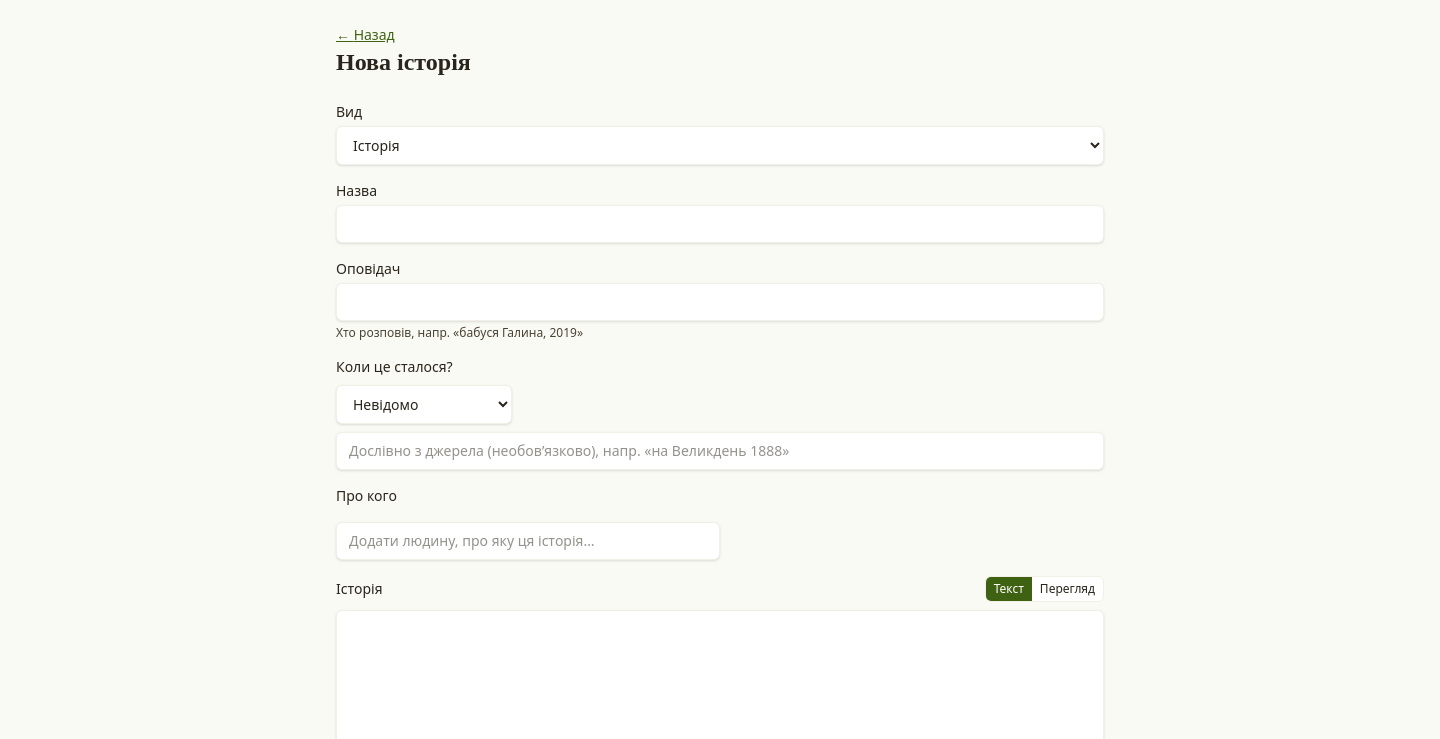
stories › contributor writes a story and submits it for review
In the field labelled "Назва": (720, 224) [336,205,1104,243], type "Пироги"
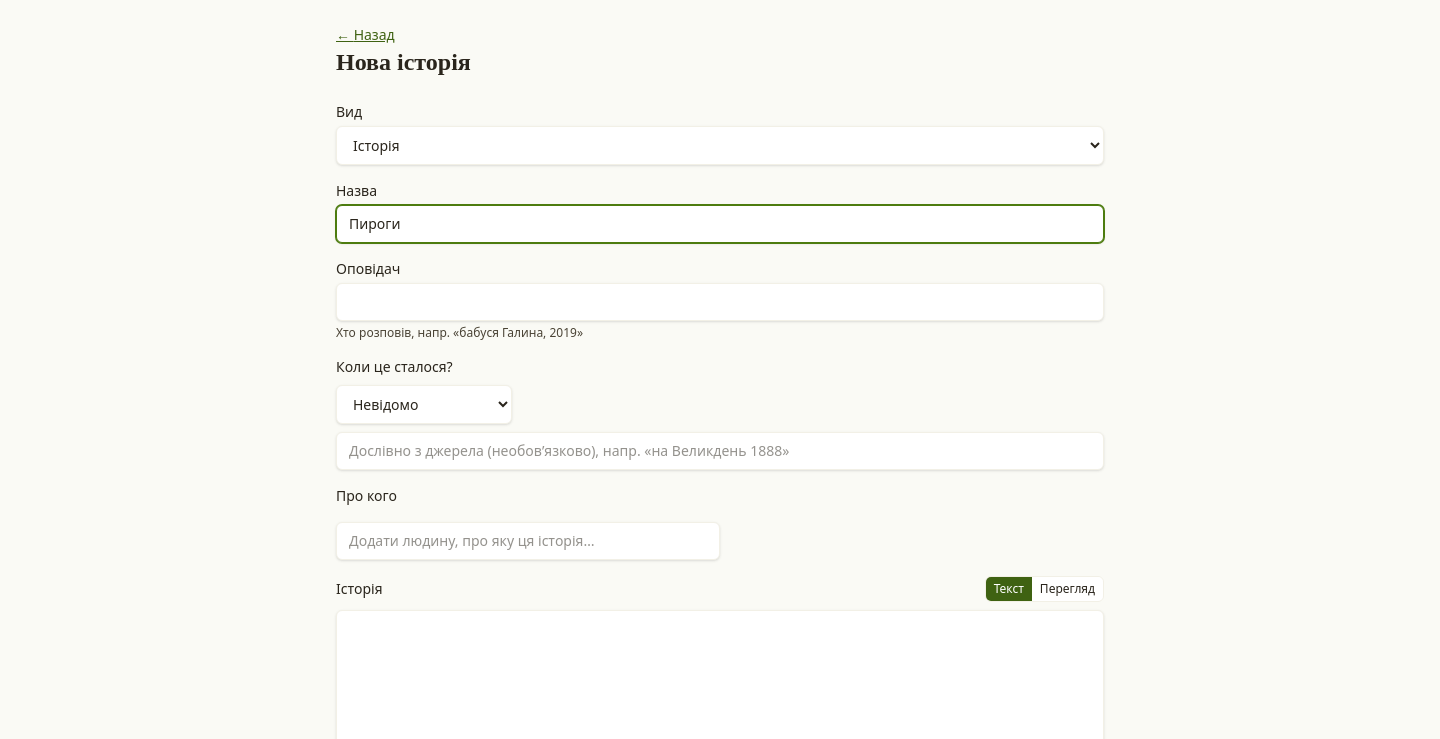
In the field labelled "Оповідач": (720, 302) [336,283,1104,321], type "бабуся Галина"
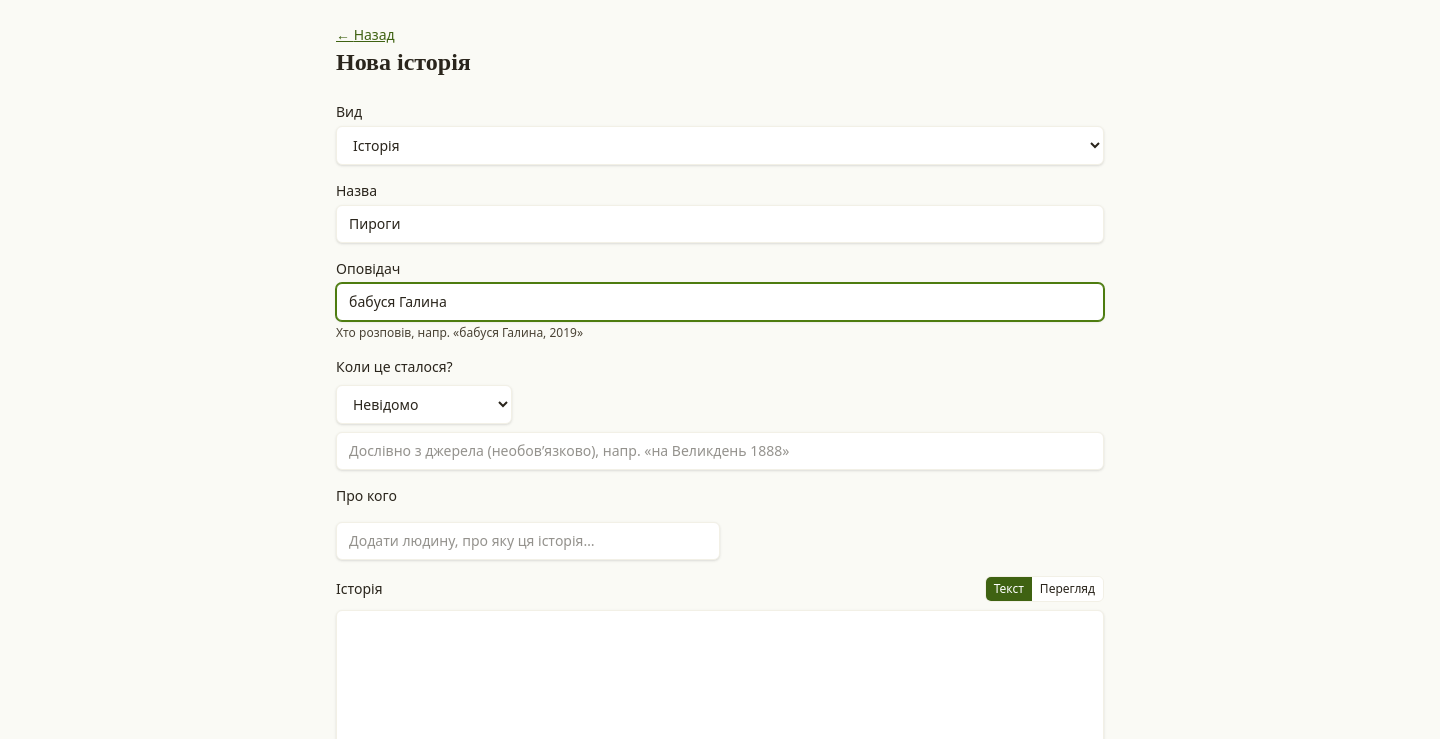
In the dropdown labelled "Додати людину, про яку ця історія…": (528, 541) [336,522,720,560], type "Гал"
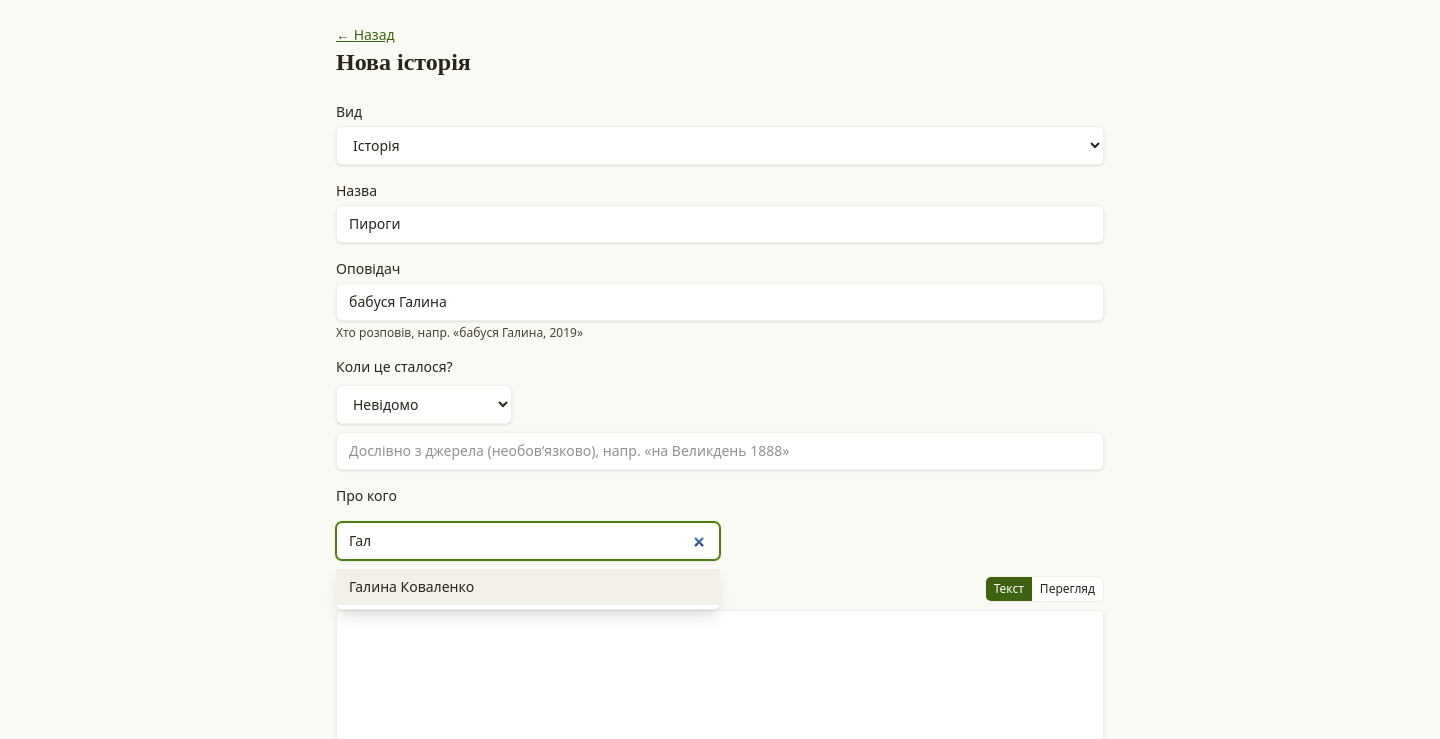
Click the option "Галина Коваленко": (412, 586) [337,569,719,605]
(page scrolled)
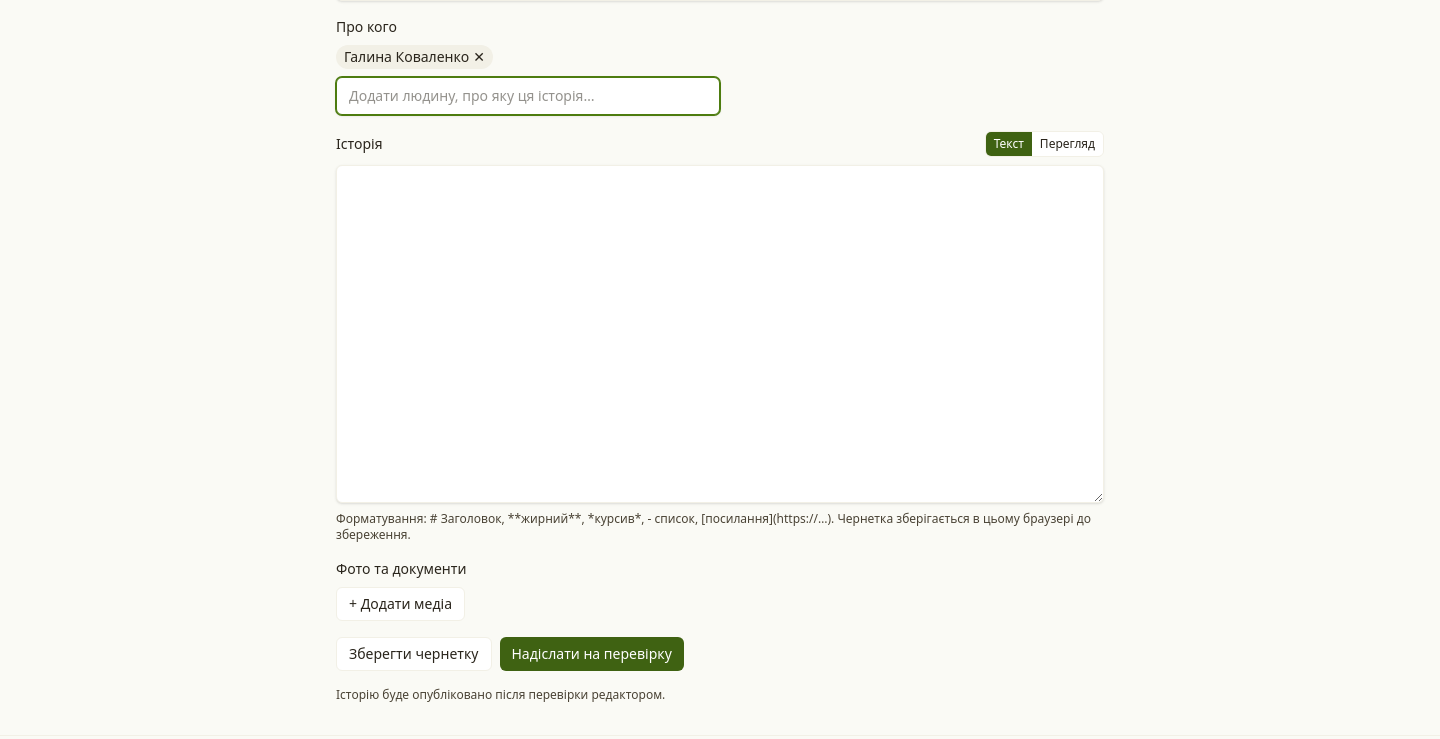
In the text box named "Історія": (720, 334) [336,165,1104,503], type "Тісто місили з вечора."
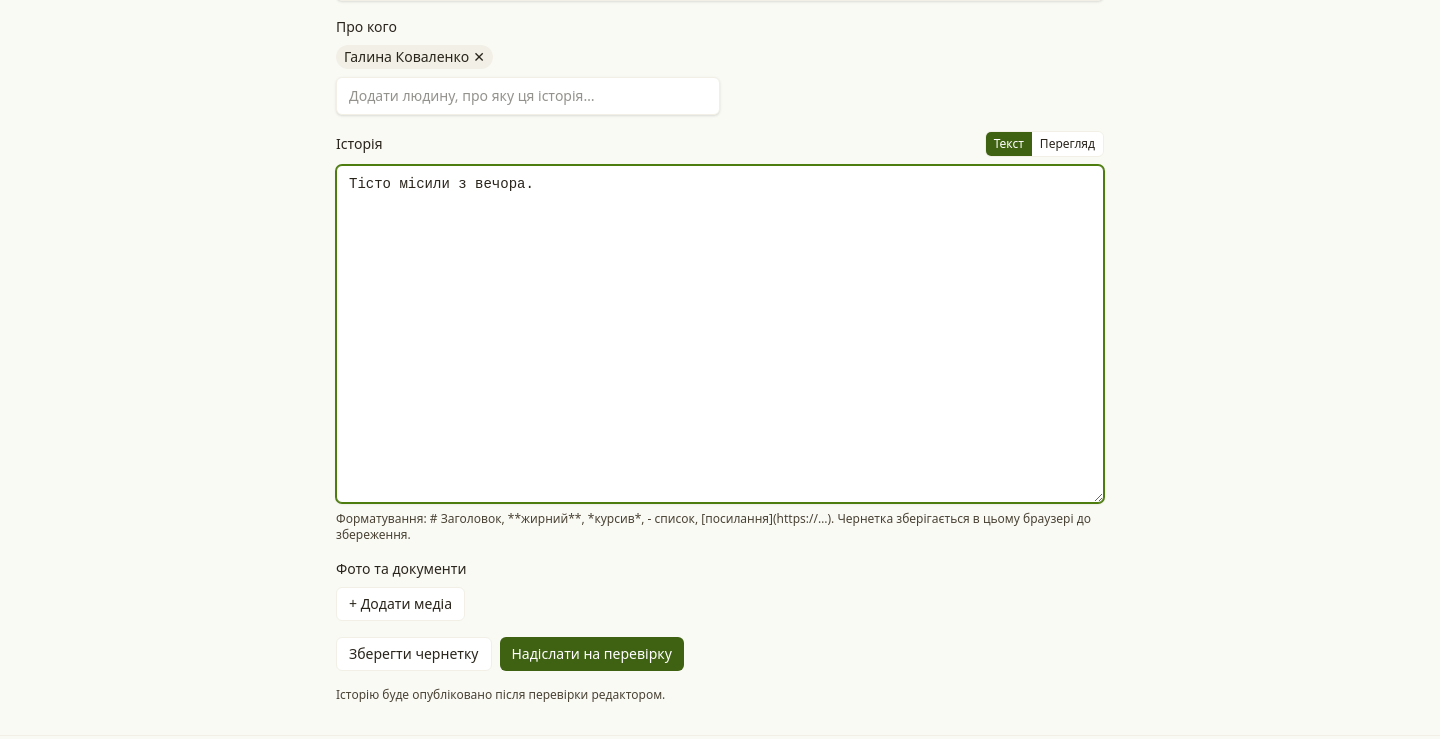
Click the button "Надіслати на перевірку": (592, 654) [500,637,684,671]
(page scrolled)
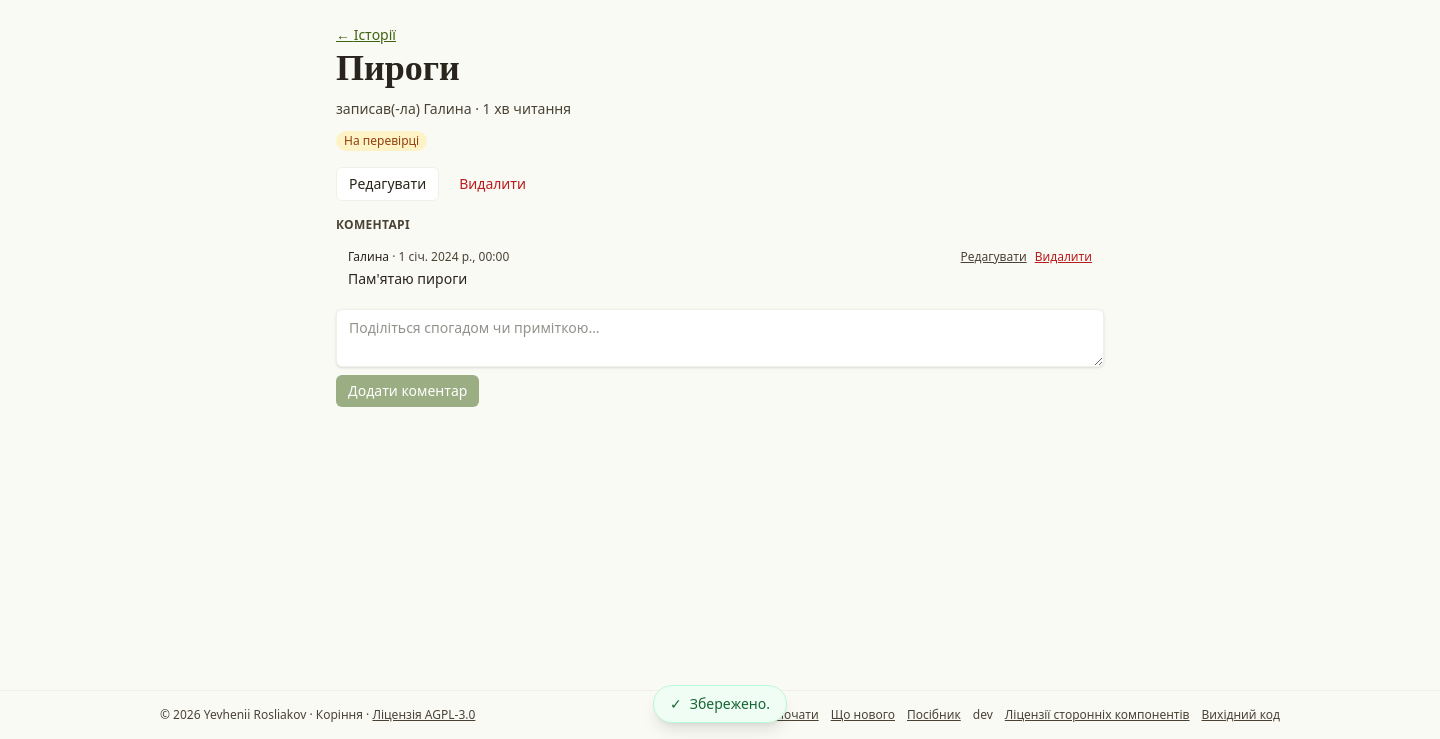
expect the text "На перевірці" is shown: met, box [336,131,427,151]
